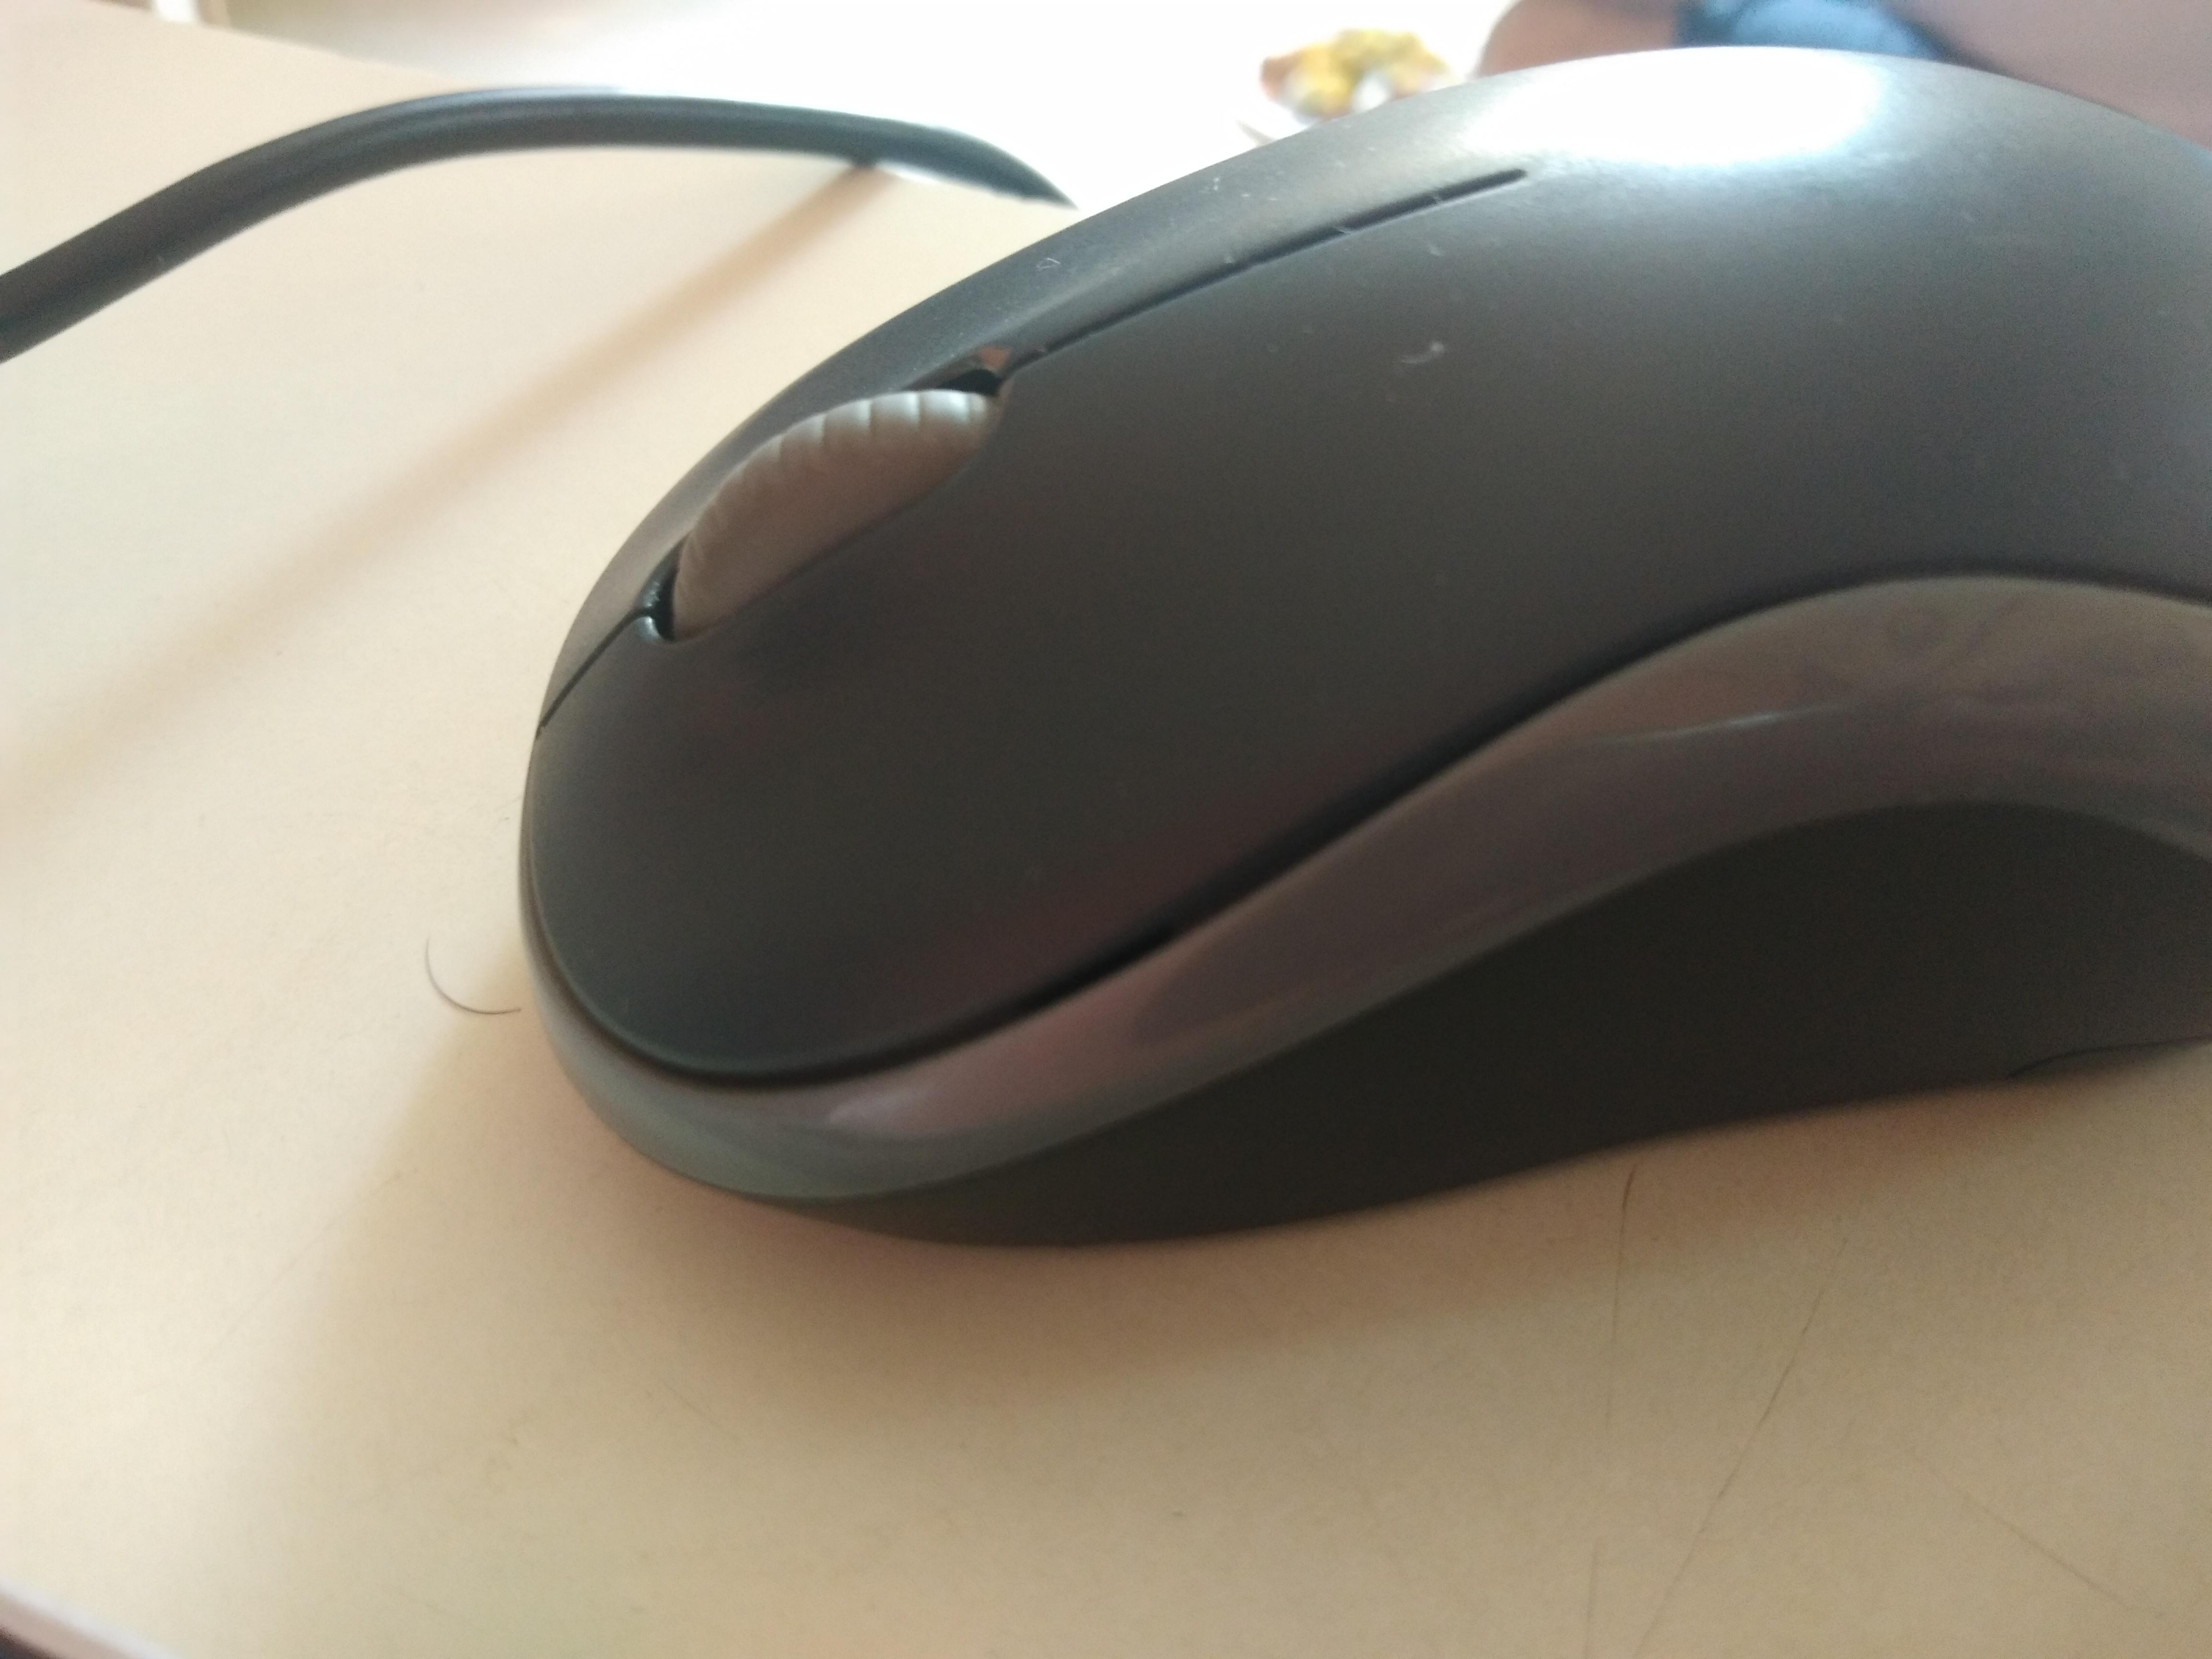mouse: (486, 19, 2203, 1272)
